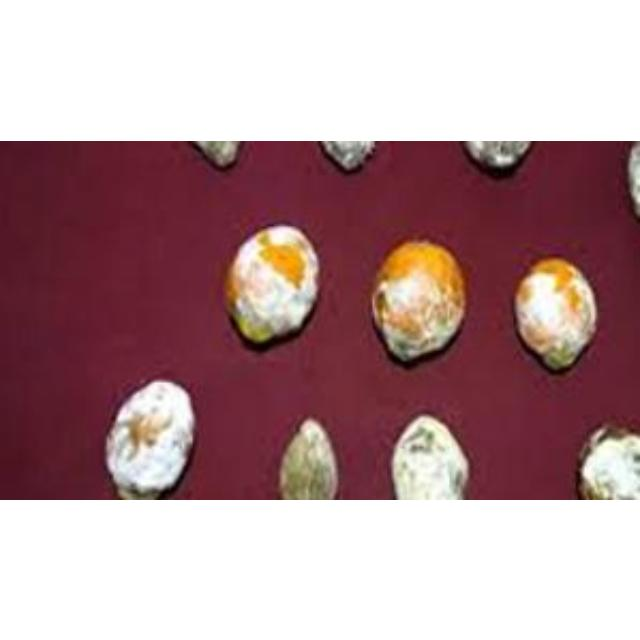damaged: (369, 238, 467, 360), (226, 225, 322, 348), (104, 378, 196, 498), (512, 254, 600, 370), (390, 414, 470, 498), (278, 418, 338, 499)
